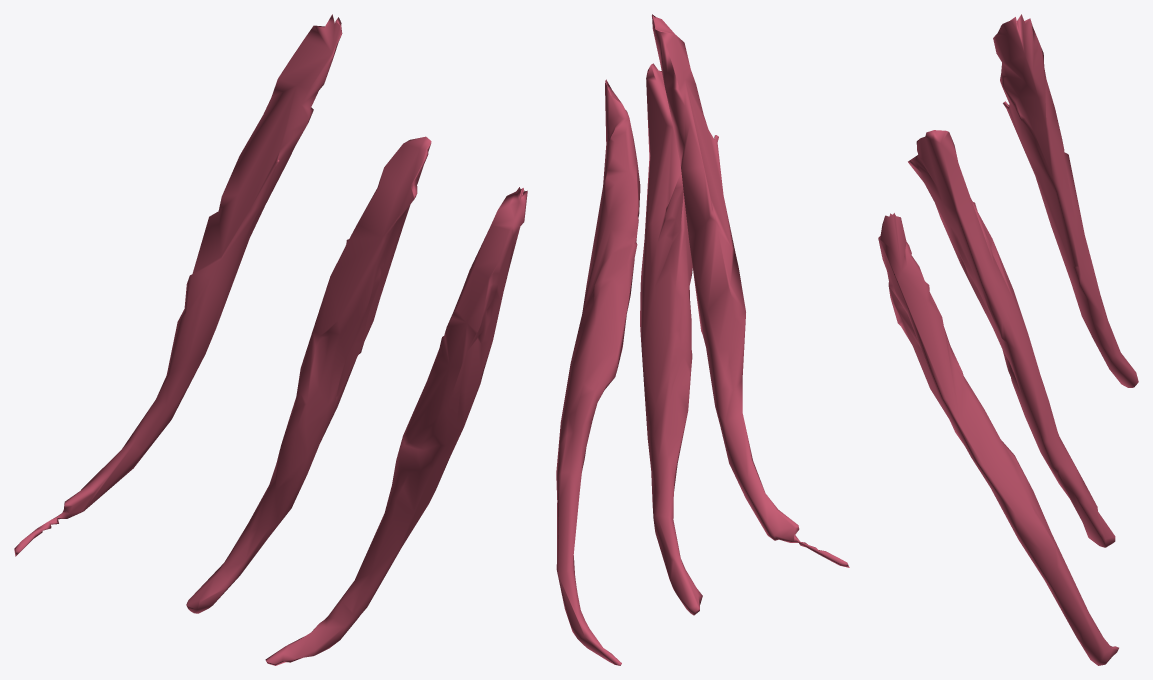
3 renders of one model, left to right at view 1: azimuth 30°, elevation 25°; view 2: azimuth 150°, elevation 25°; view 3: azimuth 270°, elevation 25°, orthographic. The views are drawn at different scales.
Visible parts, largest first — view 1: 右侧骨间足底肌; view 2: 右侧骨间足底肌; view 3: 右侧骨间足底肌.
Part boxes in pixels (x1,y1,x2,y2): 右侧骨间足底肌: [14, 14, 527, 665]; 右侧骨间足底肌: [556, 14, 849, 665]; 右侧骨间足底肌: [878, 14, 1138, 665].
Bounding box in the file's own units: 0.0633 × 0.1058 × 0.0387.
